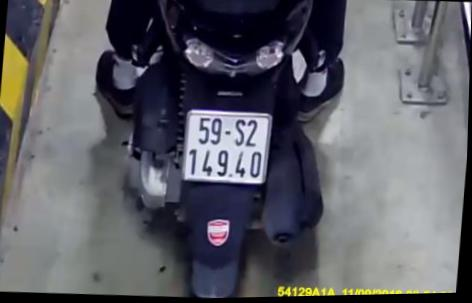LP: (183, 107, 274, 187)
